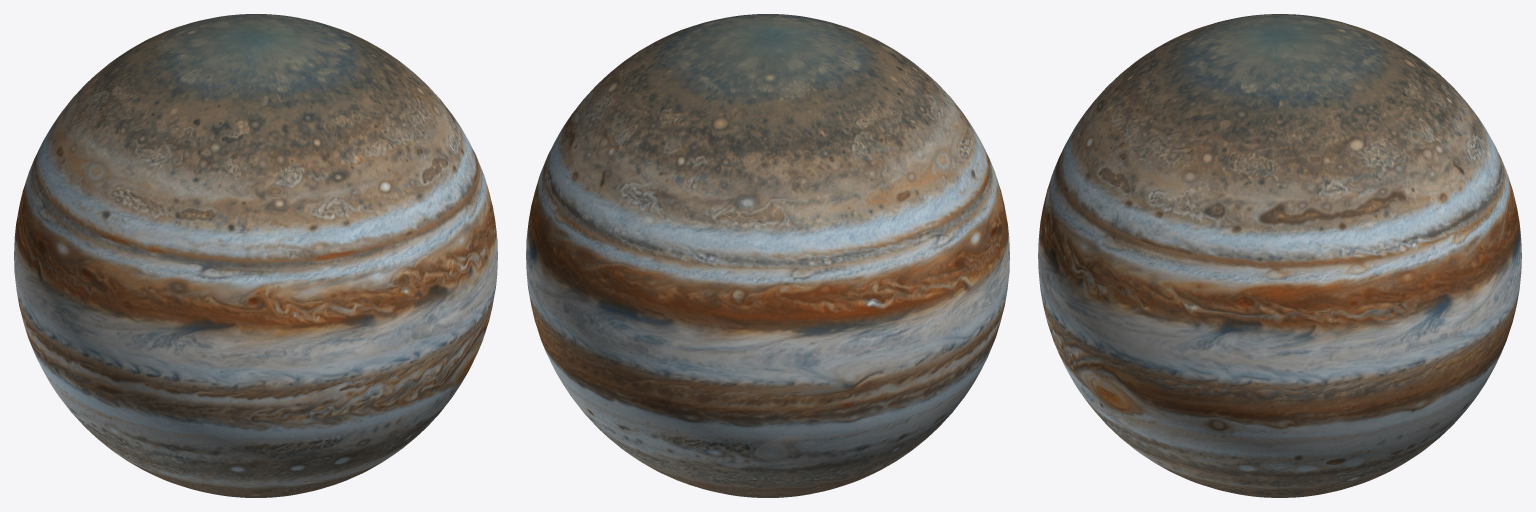
File: jupiter.gltf
3 renders of one model, left to right at view 1: azimuth 30°, elevation 25°; view 2: azimuth 150°, elevation 25°; view 3: azimuth 270°, elevation 25°, orthographic.
Visible parts, largest first — view 1: Sphere; view 2: Sphere; view 3: Sphere.
Part boxes in pixels (x1,y1,x2,y2): Sphere: (14, 14, 497, 497); Sphere: (526, 14, 1009, 497); Sphere: (1038, 14, 1521, 497).
Bounding box in the file's own units: 20.34 × 20.34 × 20.34.
1 material, 1 textured.
